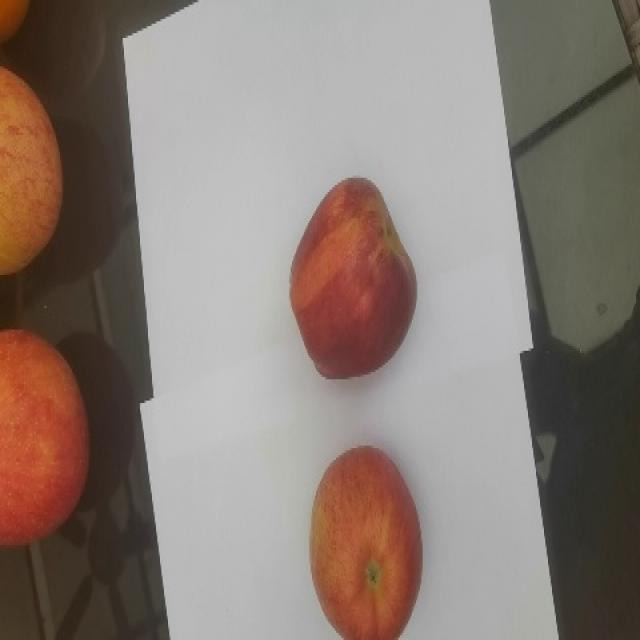Apple: (288, 176, 417, 379), (309, 444, 423, 639), (0, 327, 90, 547), (0, 64, 64, 276)
